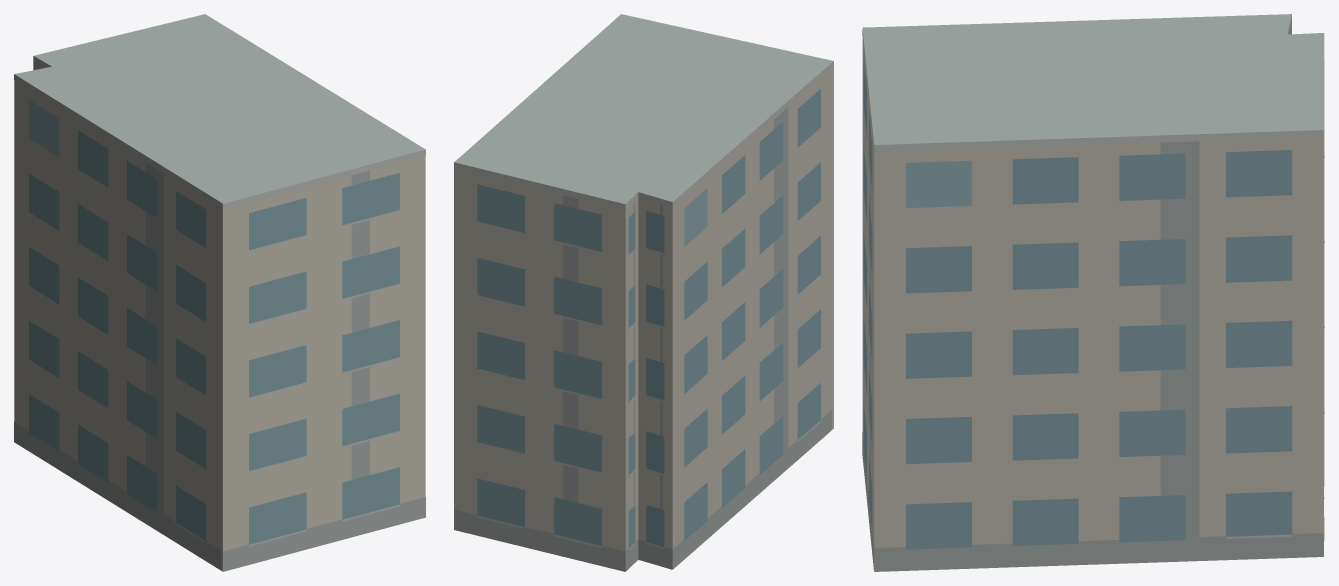
File: survey-upis-32877472.glb
3 renders of one model, left to right at view 1: azimuth 30°, elevation 25°; view 2: azimuth 150°, elevation 25°; view 3: azimuth 270°, elevation 25°, orthographic. The views are drawn at different scales.
Visible parts, largest first — view 1: survey-upis-32877472.tmp; view 2: survey-upis-32877472.tmp; view 3: survey-upis-32877472.tmp.
Boxes of the visible parts, x1,y1,x2,y2 form: survey-upis-32877472.tmp: [14, 14, 425, 571]; survey-upis-32877472.tmp: [454, 14, 833, 571]; survey-upis-32877472.tmp: [862, 14, 1324, 571].
Bounding box in the file's own units: 9.55 × 14.5 × 14.23.
